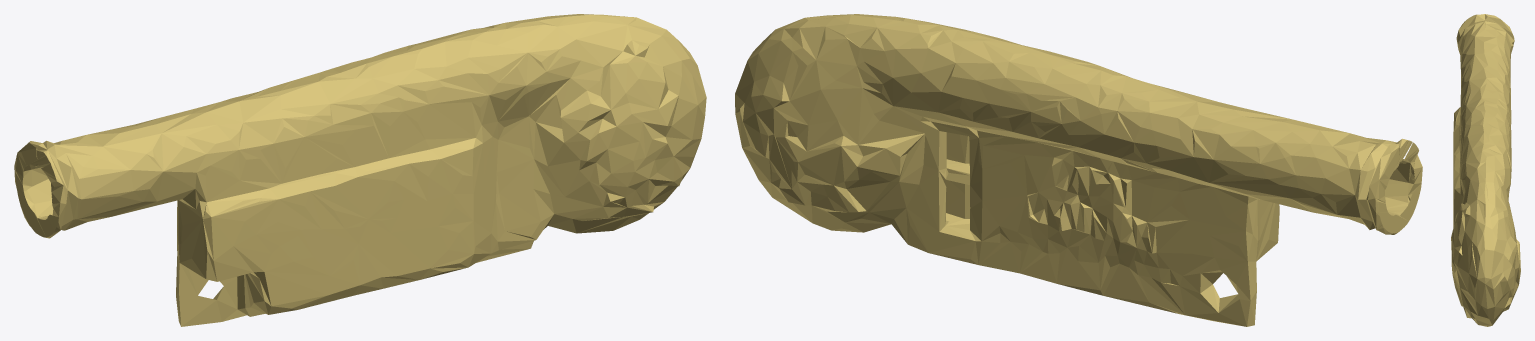
Rendered from whistle.glb.
3 views of the same model, side by side, from view 1: azimuth 30°, elevation 25°; view 2: azimuth 150°, elevation 25°; view 3: azimuth 270°, elevation 25° (orthographic). The views are drawn at different scales.
Parts seen in each view (by area): view 1: world; view 2: world; view 3: world.
Part boxes in pixels (x1,y1,x2,y2): world: [14, 14, 706, 326]; world: [735, 14, 1422, 326]; world: [1451, 14, 1520, 326].
Bounding box in the file's own units: 2.8 × 0.9157 × 0.4139.
